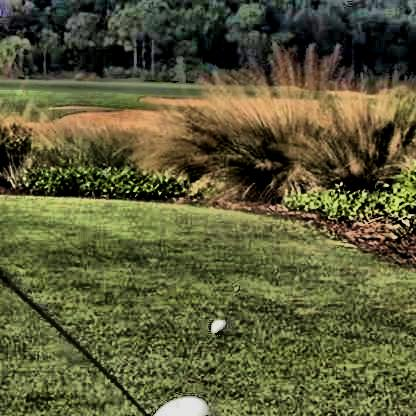golfball: (207, 314, 225, 334)
